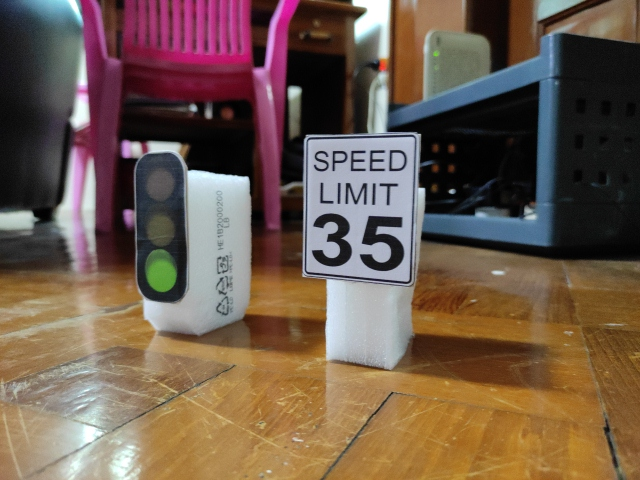Green Traffic Light: (132, 150, 191, 305)
Speed Limit 35: (302, 134, 420, 285)
